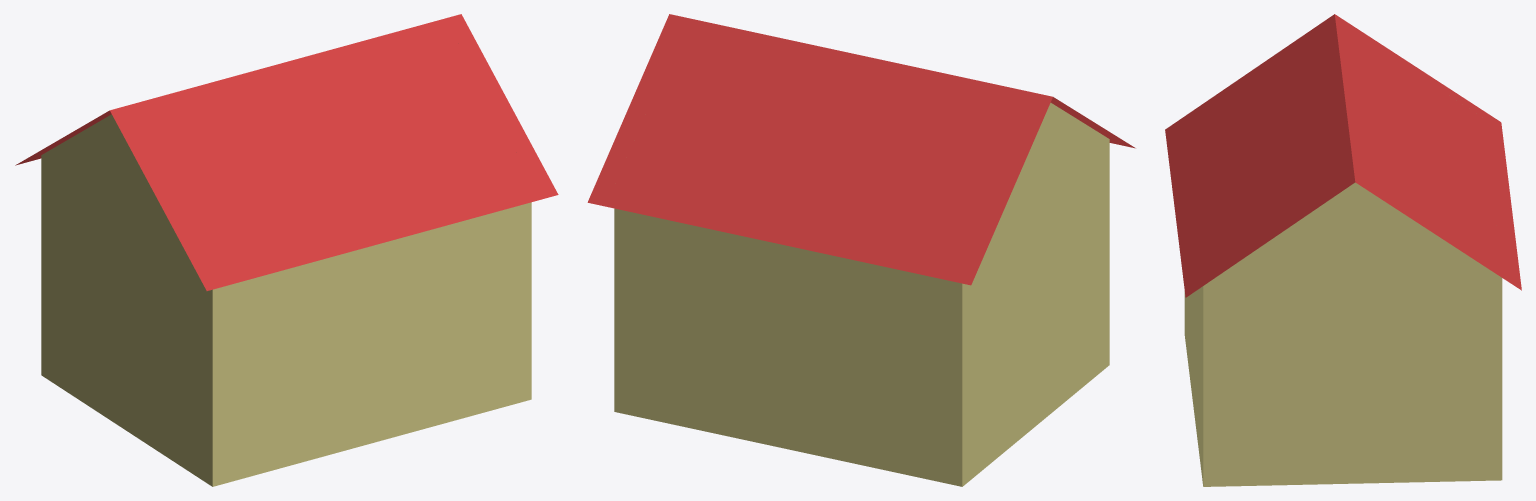
The picture shows the model from 3 angles, left to right: view 1: azimuth 30°, elevation 25°; view 2: azimuth 150°, elevation 25°; view 3: azimuth 270°, elevation 25°; orthographic projection. The views are drawn at different scales.
Bounding box in the file's own units: 16.76 × 14.38 × 13.74.
